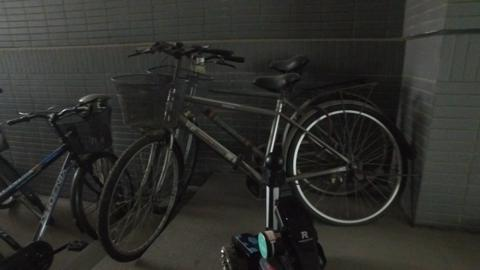bike: (105, 41, 406, 254)
chariot: (214, 154, 328, 270)
